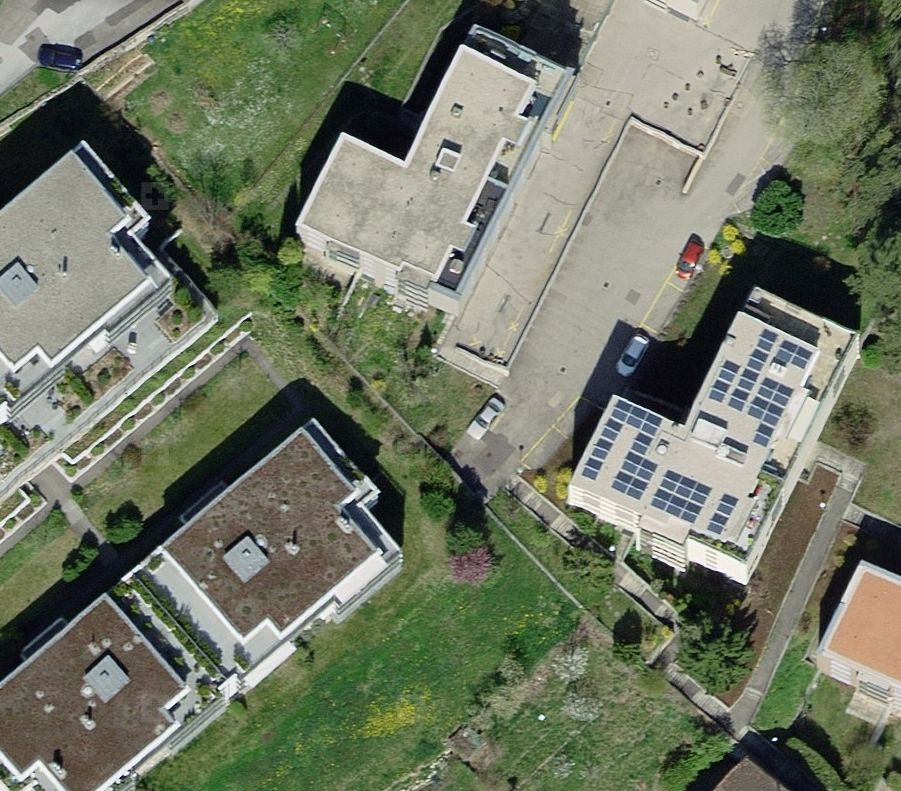solar: (580, 326, 810, 536)
